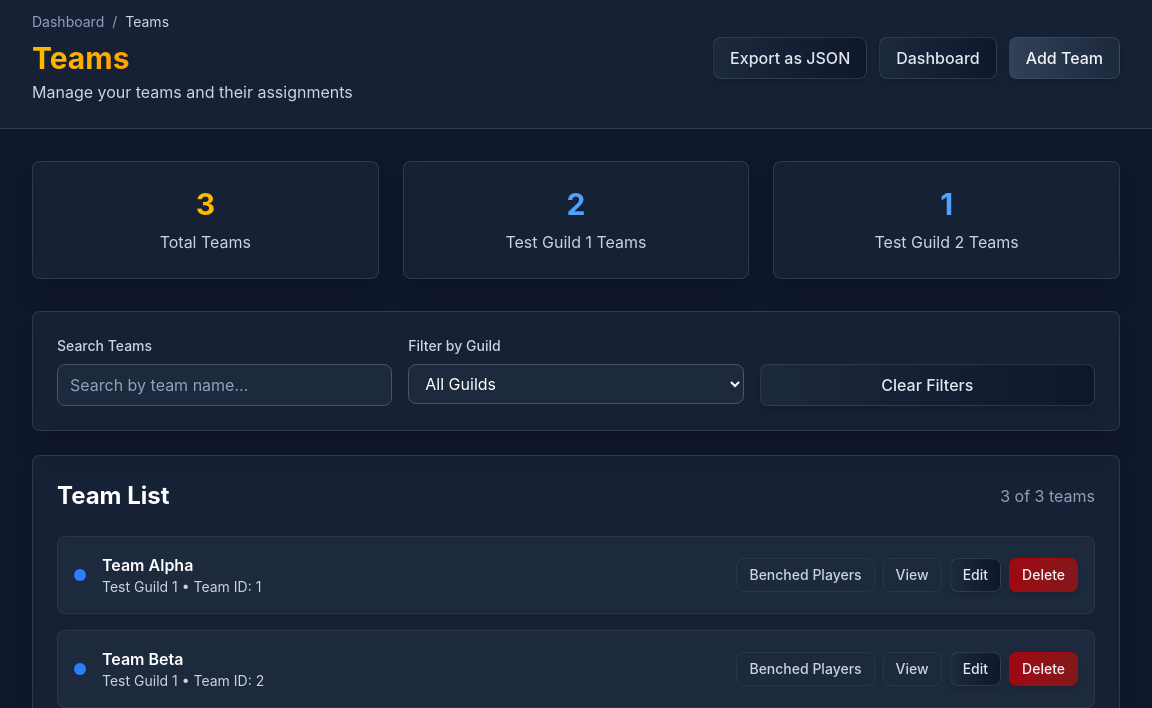
Teams › Search and Filtering › clears filters when clear button is clicked
The width and height of the screenshot is (1152, 708).
Check: the heading "Team Alpha" is shown, box [102,555,193,575]
Check: the heading "Team Beta" is shown, box [102,649,184,669]
Type "Alpha" into the field with placeholder "Search by team name..." at (225, 385), box [57,364,392,406]
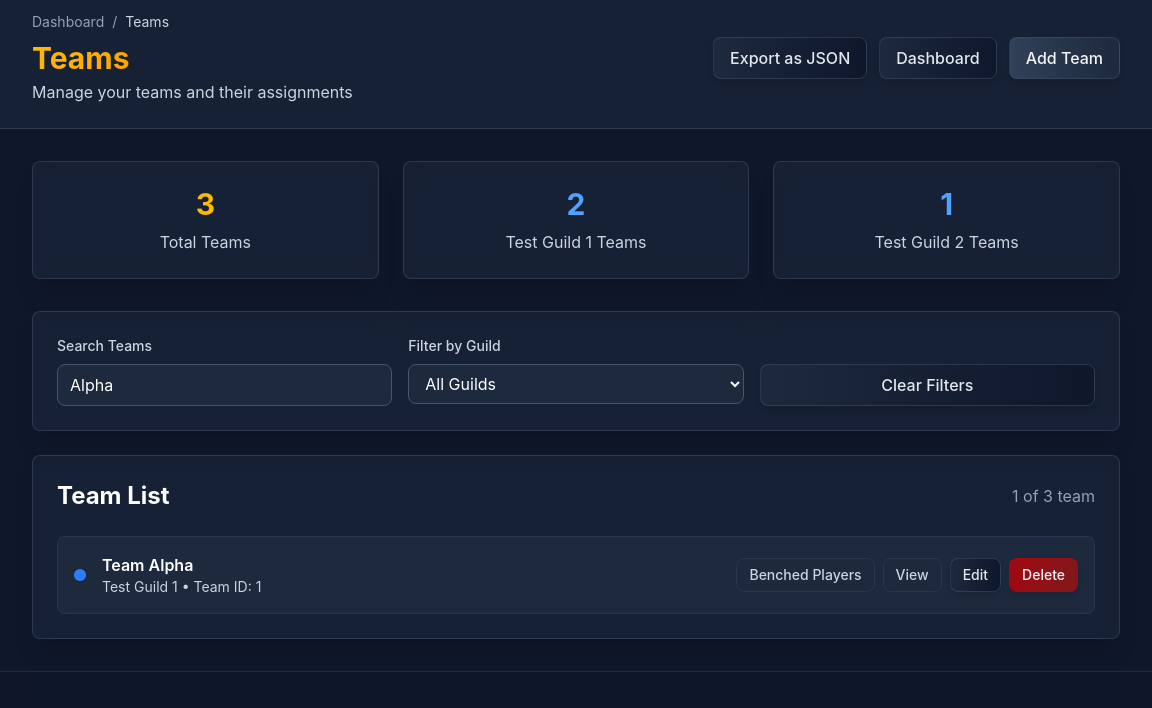
Select "Test Guild 1" in the dropdown labelled "Filter by Guild" at (576, 384), box [408,364,744,404]
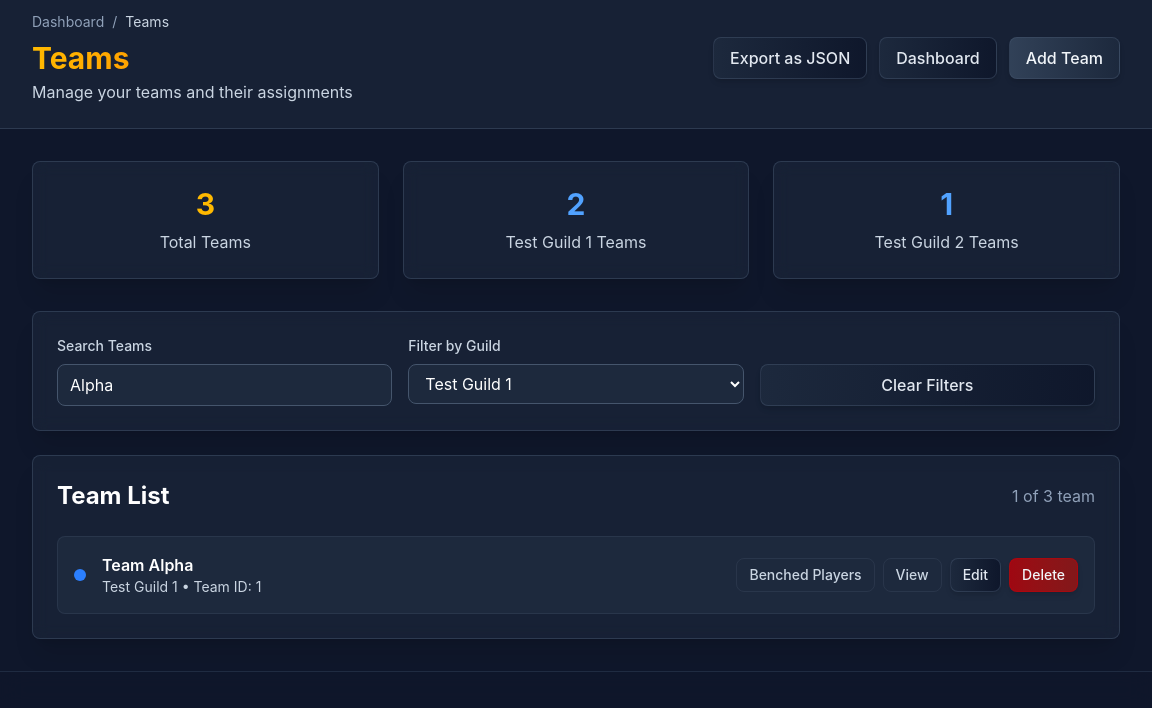
Click the button "Clear Filters" at (927, 385), box [760,364,1095,406]
(page scrolled)
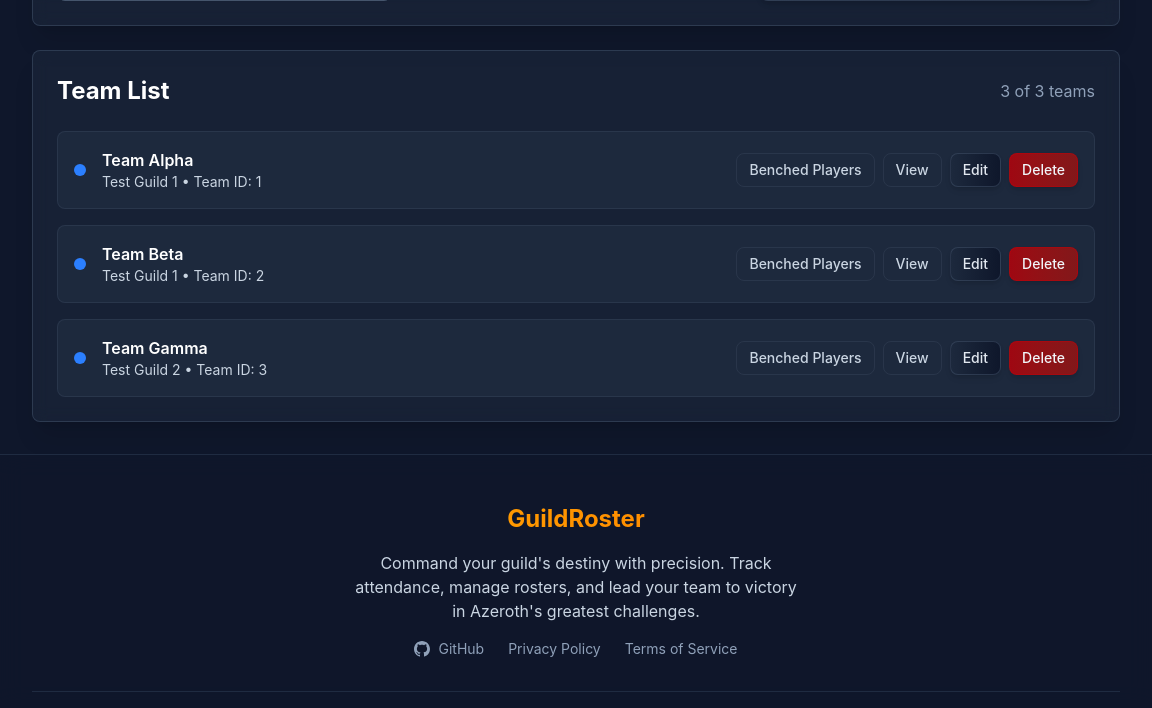
Check: the heading "Team Alpha" is shown, box [102,150,193,170]
Check: the heading "Team Beta" is shown, box [102,244,184,264]
Check: the heading "Team Gamma" is shown, box [102,338,208,358]
